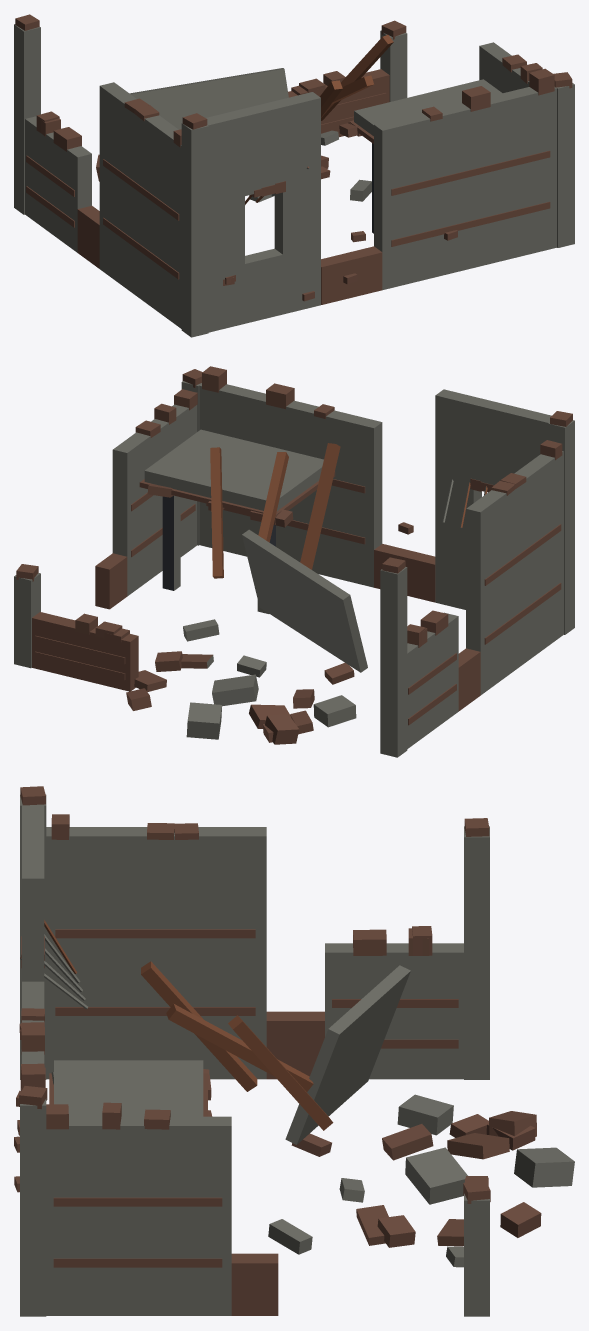
Rendered from ruin_c.glb.
The picture shows the model from 3 angles, top to bottom: view 1: azimuth 30°, elevation 25°; view 2: azimuth 150°, elevation 25°; view 3: azimuth 270°, elevation 25°; orthographic projection. The views are drawn at different scales.
Parts seen in each view (by area): view 1: ruin_c; view 2: ruin_c; view 3: ruin_c.
Part boxes in pixels (bbox=[...]): ruin_c: bbox=[14, 14, 574, 337]; ruin_c: bbox=[14, 366, 574, 757]; ruin_c: bbox=[14, 786, 574, 1316].
Size of the model in its own units: 10.09 by 5.45 by 9.63.
